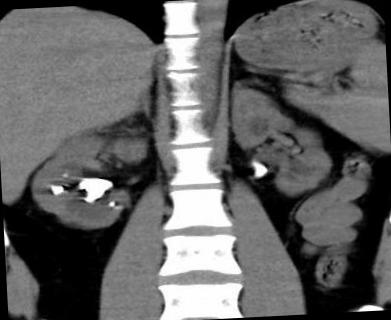Tas_Var: (74, 176, 115, 204), (250, 158, 269, 182), (48, 181, 68, 200), (106, 198, 117, 210), (60, 172, 70, 180)
